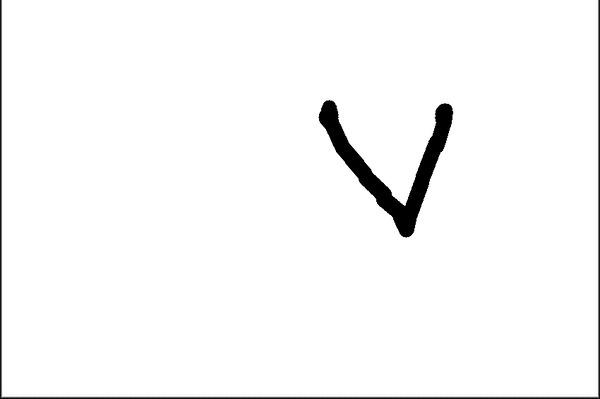V: (295, 82, 472, 242)
